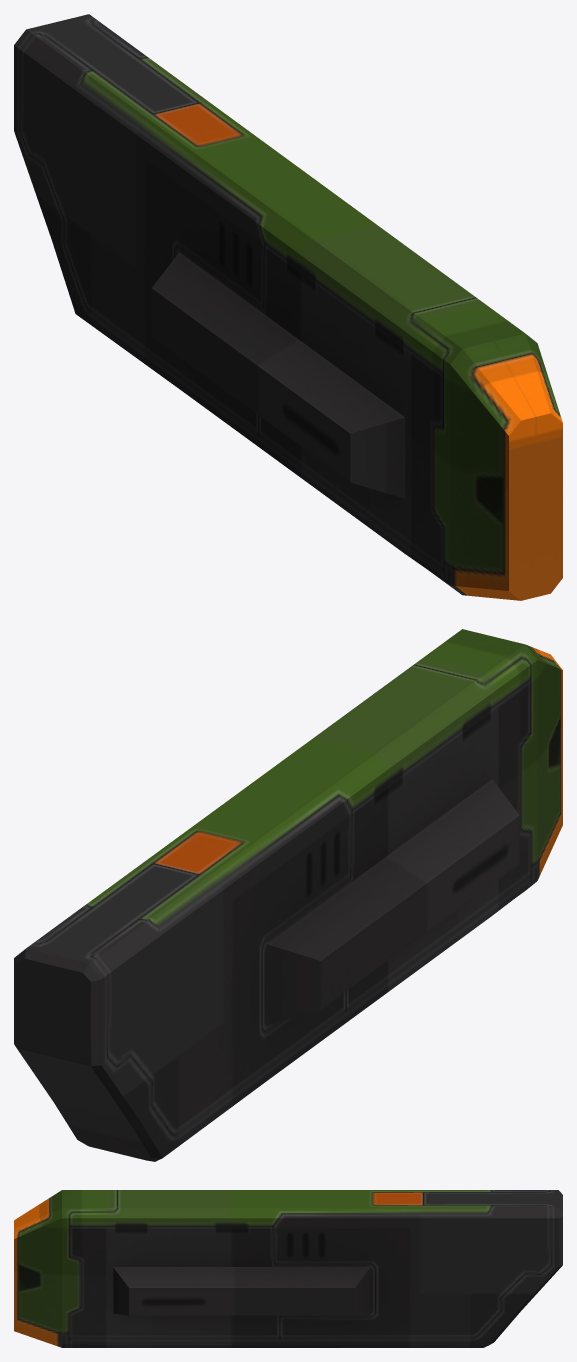
File: Mod-F_blue.FBX
The picture shows the model from 3 angles, top to bottom: view 1: azimuth 30°, elevation 25°; view 2: azimuth 150°, elevation 25°; view 3: azimuth 270°, elevation 25°; orthographic projection. The views are drawn at different scales.
Visible parts, largest first — view 1: Mod-F; view 2: Mod-F; view 3: Mod-F.
Boxes of the visible parts, x1,y1,x2,y2 form: Mod-F: (14, 14, 562, 600); Mod-F: (14, 629, 562, 1161); Mod-F: (14, 1190, 562, 1347).
Bounding box in the file's own units: 1378 × 6793 × 1915.
